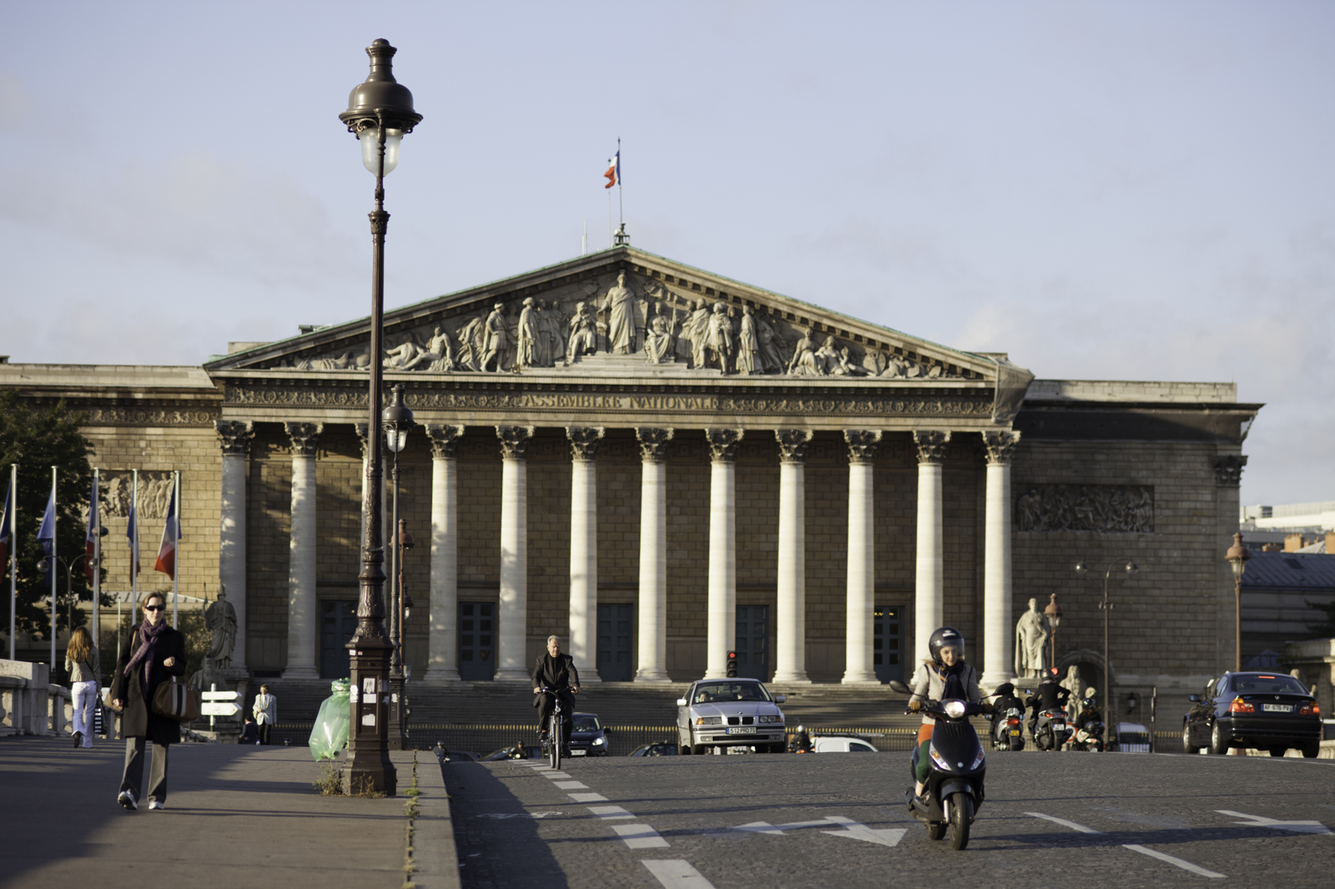fachada: (0, 238, 1277, 742)
poste: (302, 38, 430, 805), (1055, 538, 1154, 757), (1197, 513, 1264, 671), (390, 519, 434, 742)
